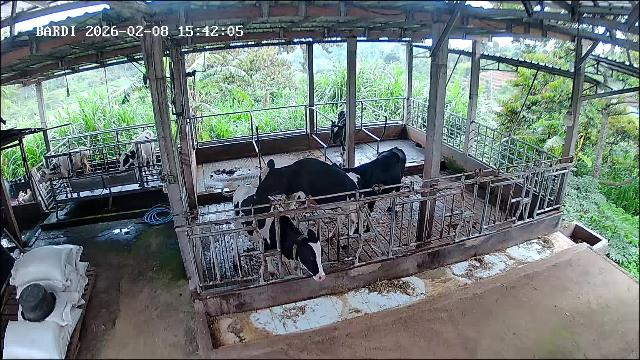mounting: (256, 158, 362, 253)
